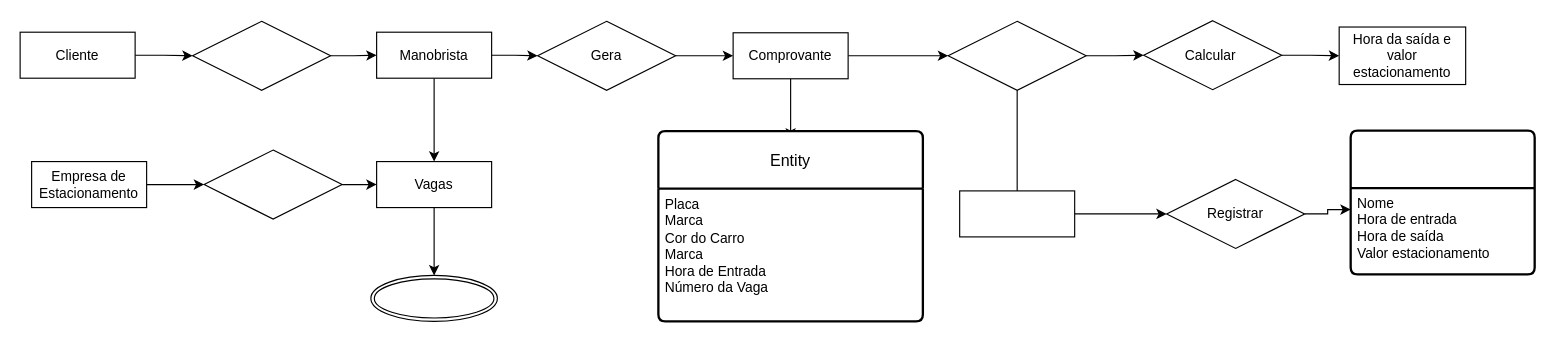
Image size: 1556x342. Some labels were removed from this diagram. Here are the shapes that lost their labels. From the top down, the centre of each, then its label:
At point 261,55: "Entrega Carro".
At point 1016,55: "Retirar veiculo".
At point 272,184: "Oferece".
At point 1017,213: "Clientes mensalistas".
At point 433,297: "Ocupada ou livre".
